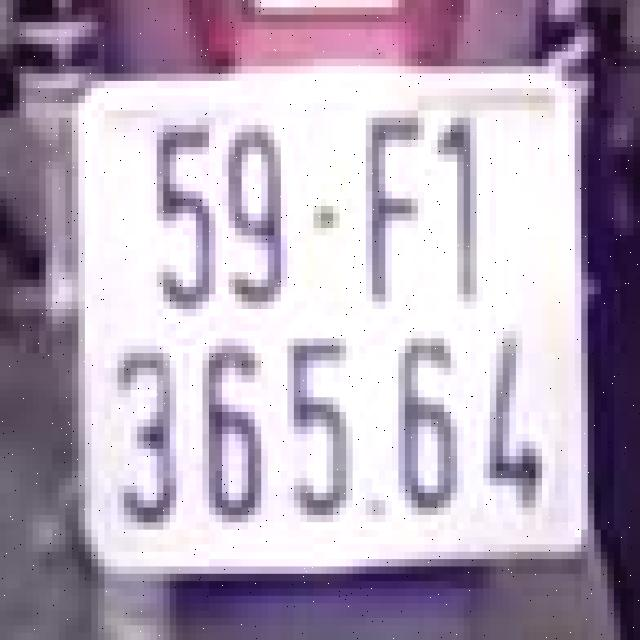1: (428, 107, 493, 320)
3: (111, 324, 183, 537)
4: (474, 320, 558, 526)
5: (147, 114, 225, 320), (278, 316, 350, 530)
6: (388, 324, 474, 522), (186, 331, 271, 530)
9: (225, 125, 304, 316)
F: (356, 99, 428, 320)
